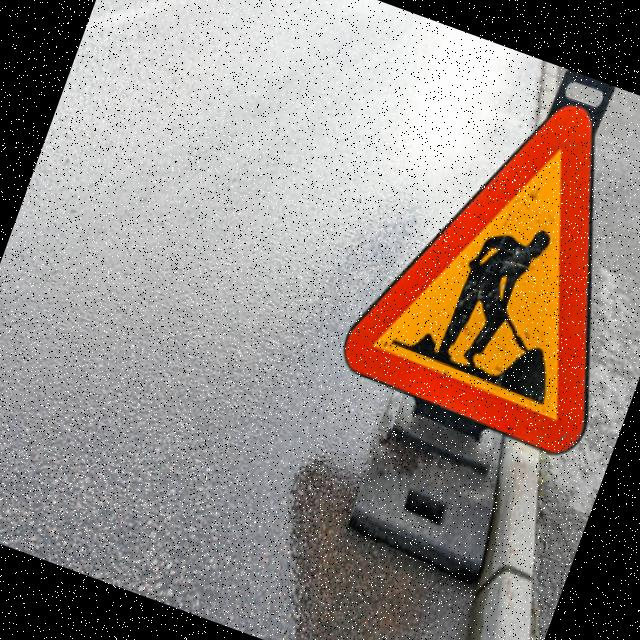road_work: (325, 55, 640, 470)
